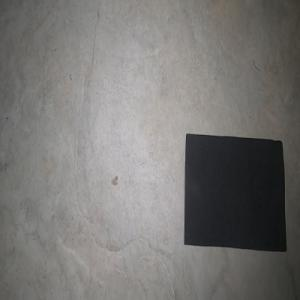PaintChip: (184, 133, 287, 252)
